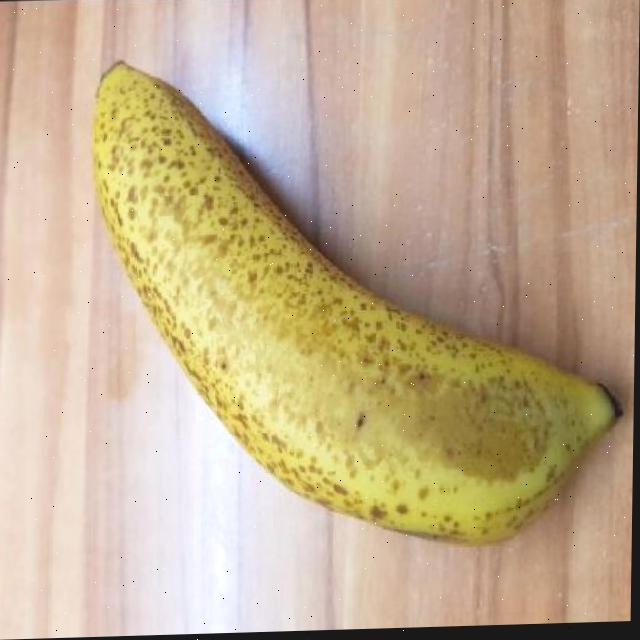banana: (78, 46, 639, 558)
